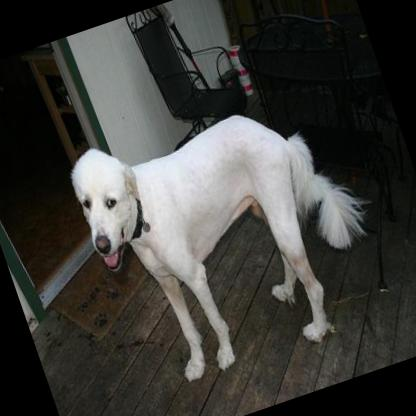Great_Pyrenees: (58, 67, 402, 404)
